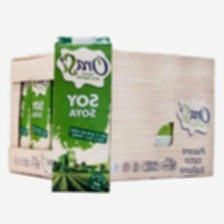carton: (38, 30, 118, 199)
